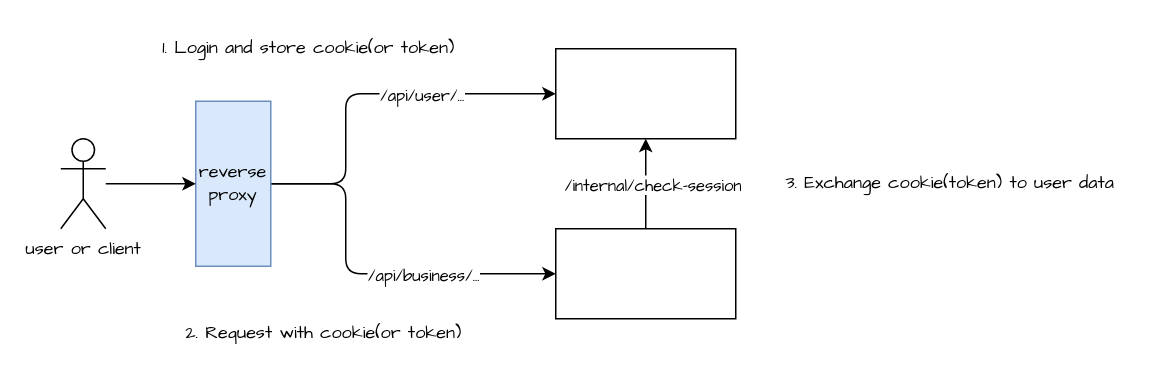
The diagram is 1167 pixels wide and 381 high, and some of its shapes have lost their labels. The box of each missing label's shape, as (x1, y1, x2, y2) in pixels:
Business Server: (554, 227, 736, 319)
User Server: (554, 47, 736, 139)
